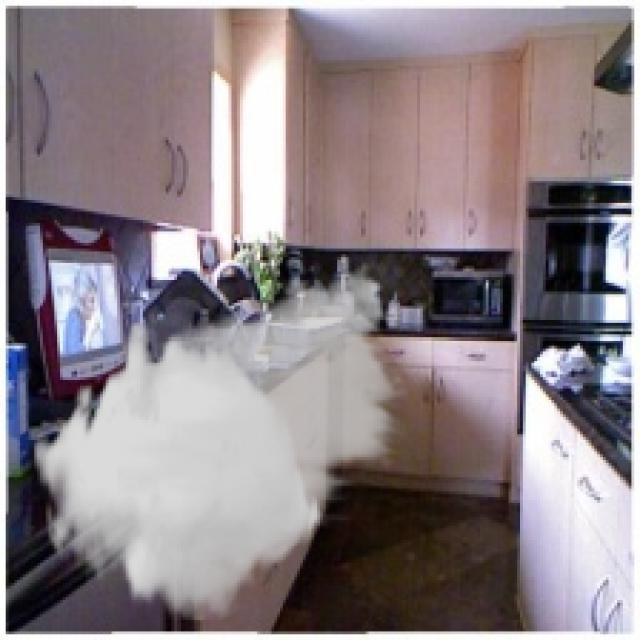Smoke: (31, 255, 408, 620)
